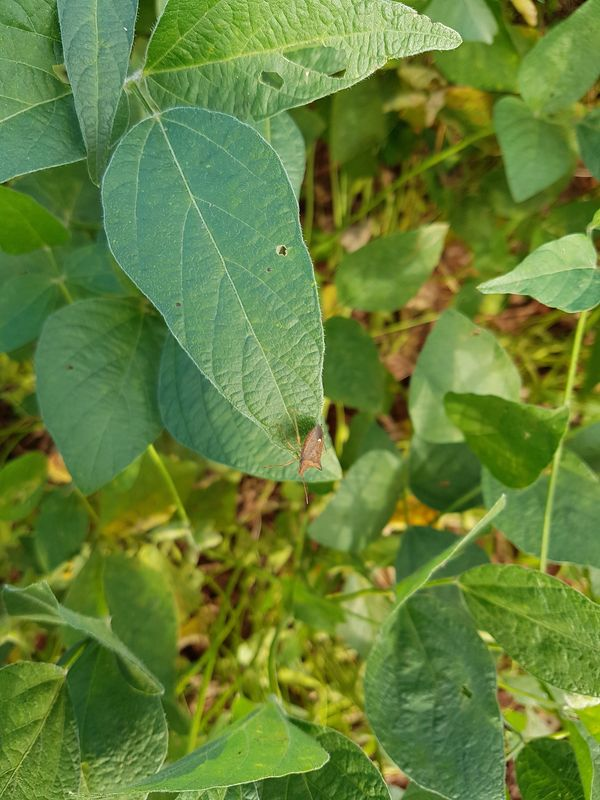Euschistus_heros_adulto: (271, 410, 336, 504)
